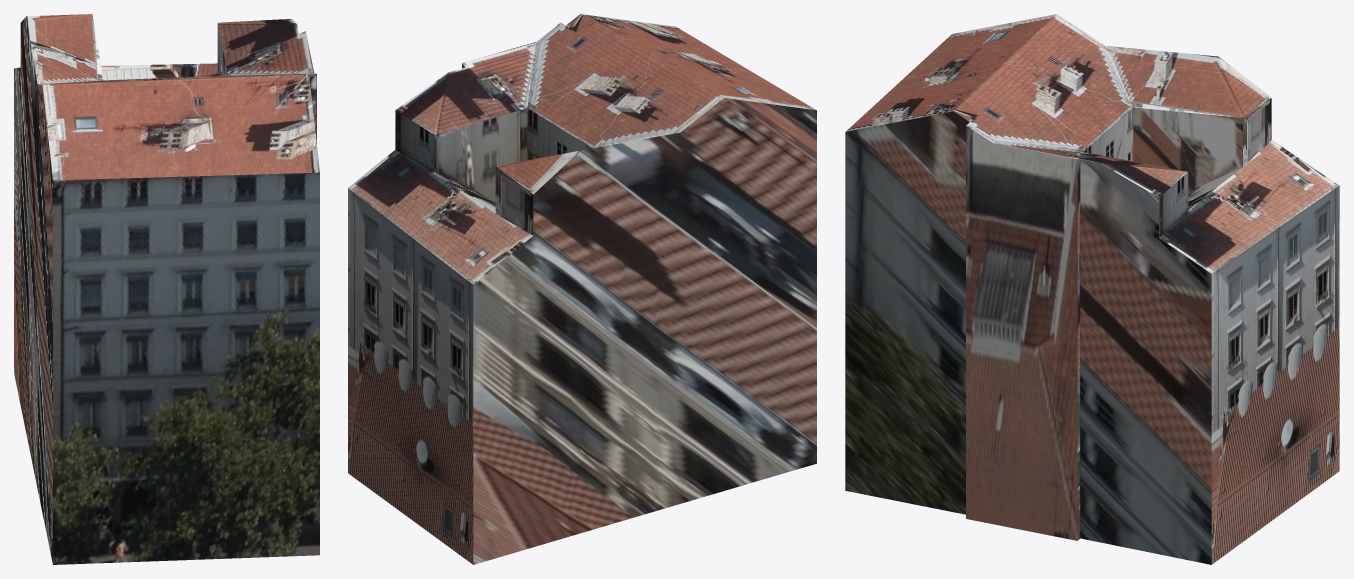
The picture shows the model from 3 angles, left to right: view 1: azimuth 30°, elevation 25°; view 2: azimuth 150°, elevation 25°; view 3: azimuth 270°, elevation 25°; orthographic projection. The views are drawn at different scales.
Visible parts, largest first — view 1: Z_UP; view 2: Z_UP; view 3: Z_UP.
Part boxes in pixels (x1=…): Z_UP: x1=14, y1=14, x2=319, y2=564; Z_UP: x1=348, y1=14, x2=816, y2=564; Z_UP: x1=845, y1=14, x2=1339, y2=564.
Size of the model in its own units: 25.98 by 28.55 by 31.84.
2 materials, 1 textured.
